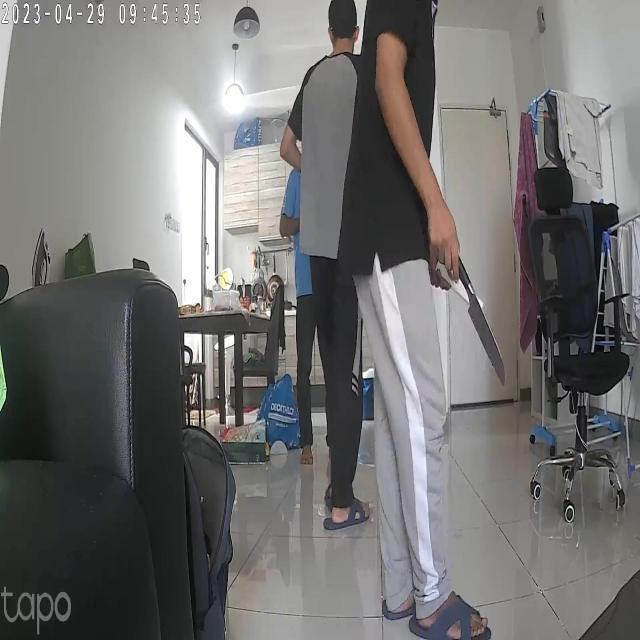Knife: (449, 249, 517, 387)
